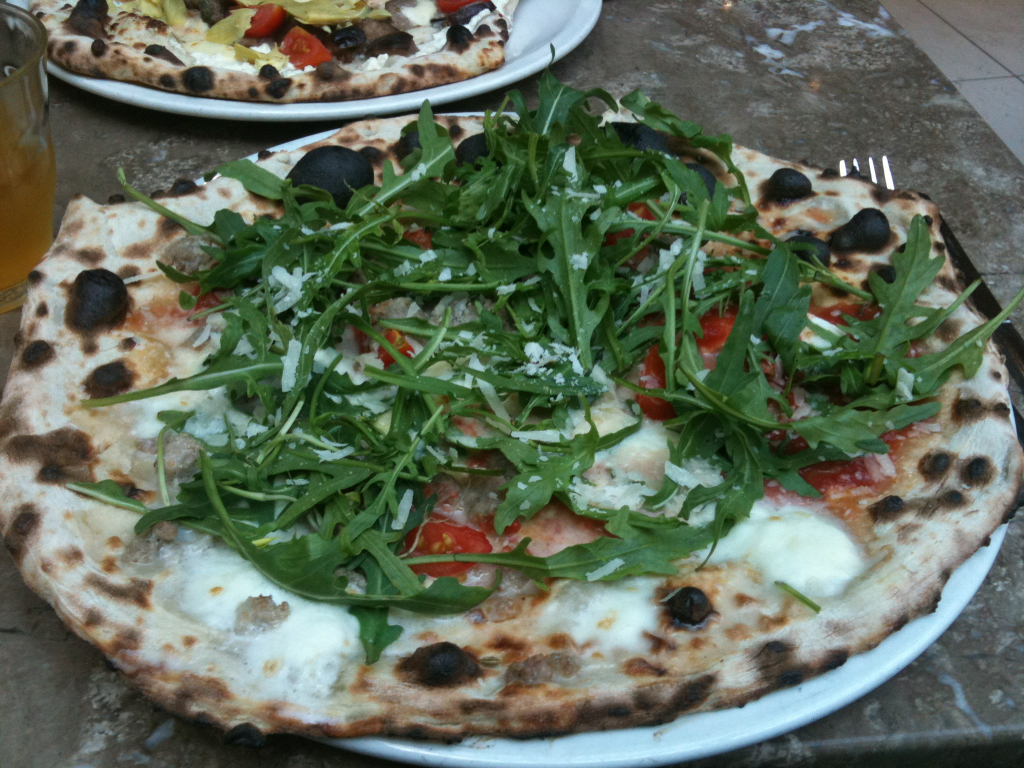Pizza: (0, 106, 1022, 743), (5, 0, 561, 104)
